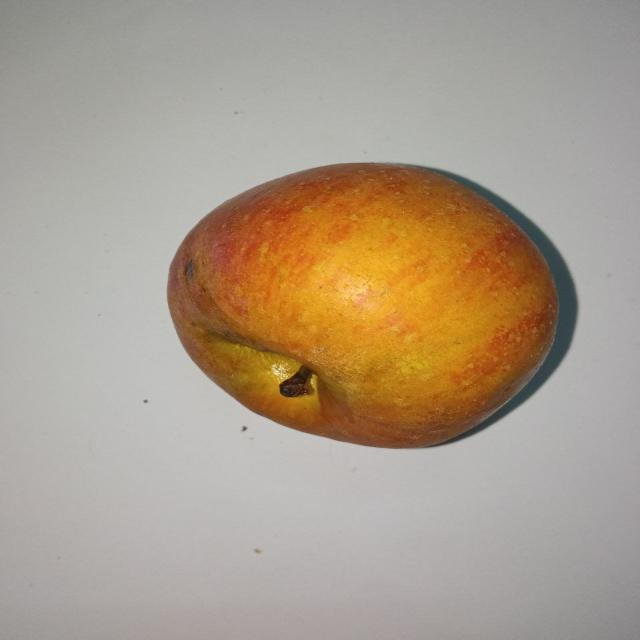fresh_apple: (163, 162, 558, 448)
